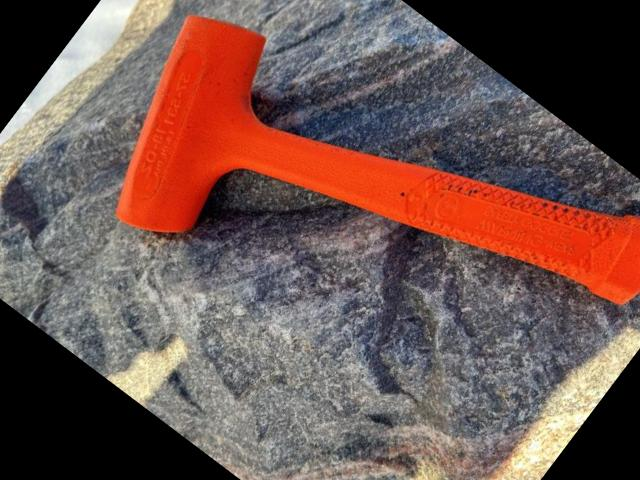hammer: (63, 0, 640, 480)
